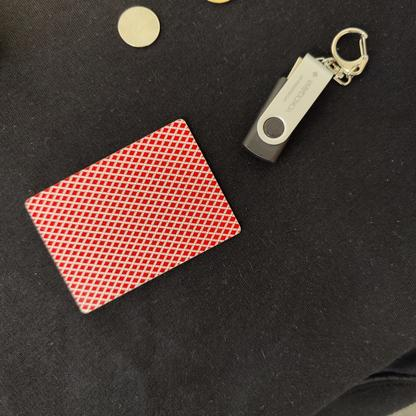card: (22, 112, 244, 321)
